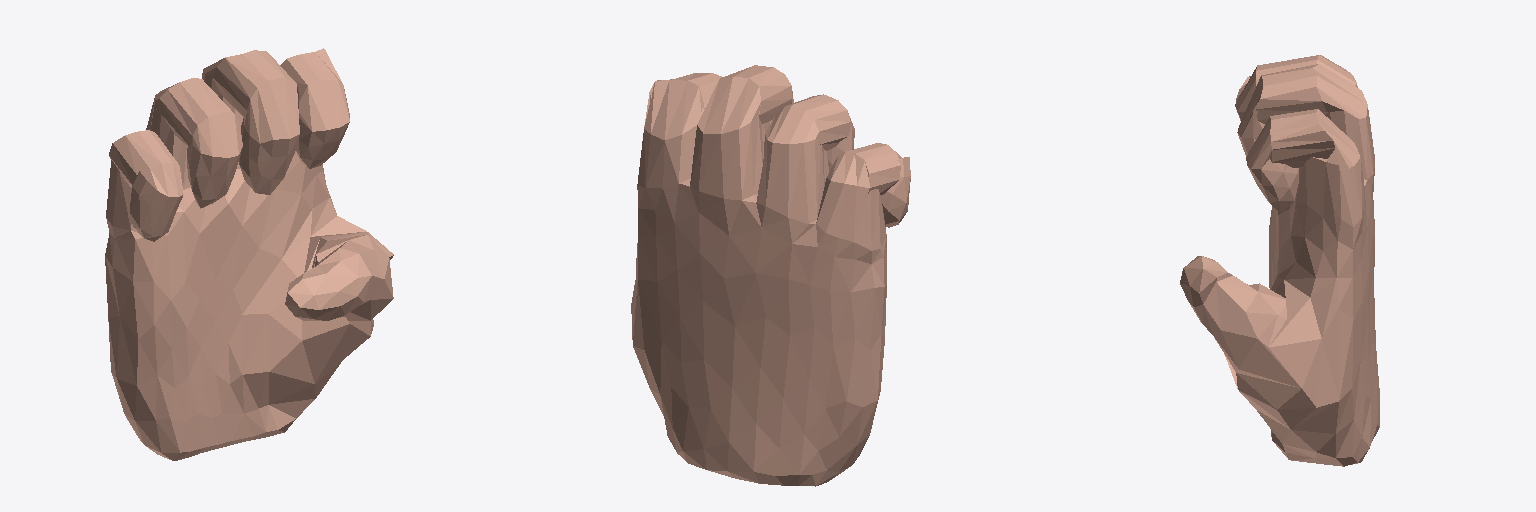
Rendered from MAO_E.obj.
3 renders of one model, left to right at view 1: azimuth 30°, elevation 25°; view 2: azimuth 150°, elevation 25°; view 3: azimuth 270°, elevation 25°, orthographic.
Visible parts, largest first — view 1: mao_dir:mao_dir; view 2: mao_dir:mao_dir; view 3: mao_dir:mao_dir.
Boxes of the visible parts, <box> form: mao_dir:mao_dir: <box>105,48,393,460</box>; mao_dir:mao_dir: <box>631,65,910,486</box>; mao_dir:mao_dir: <box>1180,55,1379,466</box>.
Size of the model in its own units: 134 by 184 by 88.03.